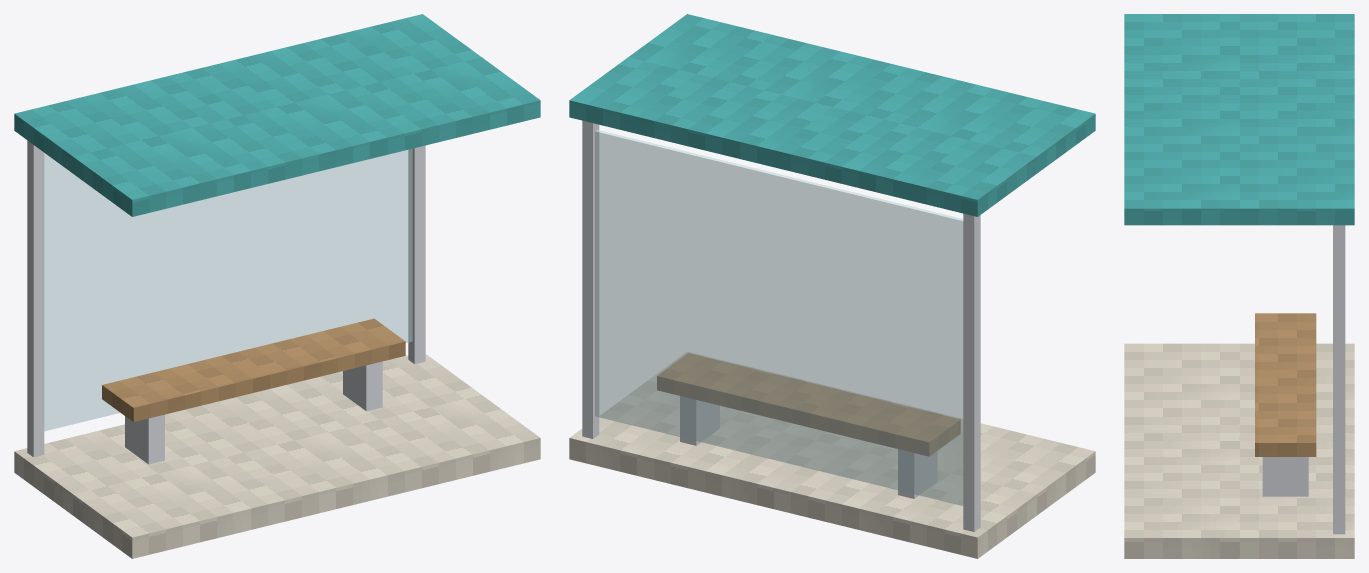
Rendered from retro-arcade-and-mall-1989-bus-shelter-516e24b0__15551.glb.
3 renders of one model, left to right at view 1: azimuth 30°, elevation 25°; view 2: azimuth 150°, elevation 25°; view 3: azimuth 270°, elevation 25°, orthographic. The views are drawn at different scales.
Parts seen in each view (by area): view 1: bus-shelter; view 2: bus-shelter; view 3: bus-shelter.
Part boxes in pixels (bbox=[...]): bus-shelter: bbox=[14, 14, 540, 558]; bus-shelter: bbox=[569, 14, 1095, 558]; bus-shelter: bbox=[1124, 14, 1354, 558].
Bounding box in the file's own units: 3 × 2.52 × 1.5.
Materials: 5 (3 with a texture image).
